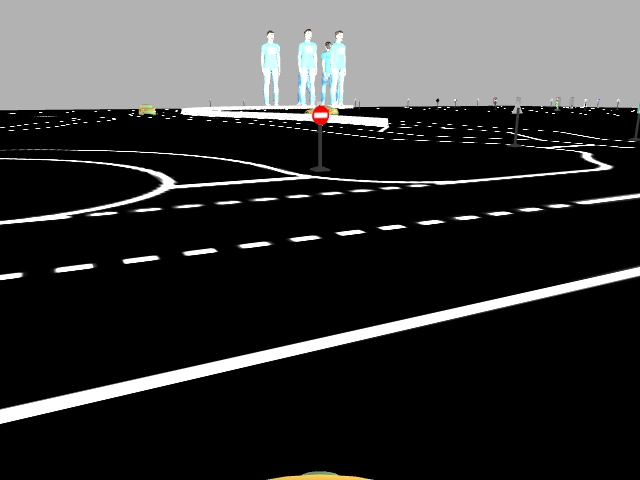NoEntry: (309, 105, 332, 126)
